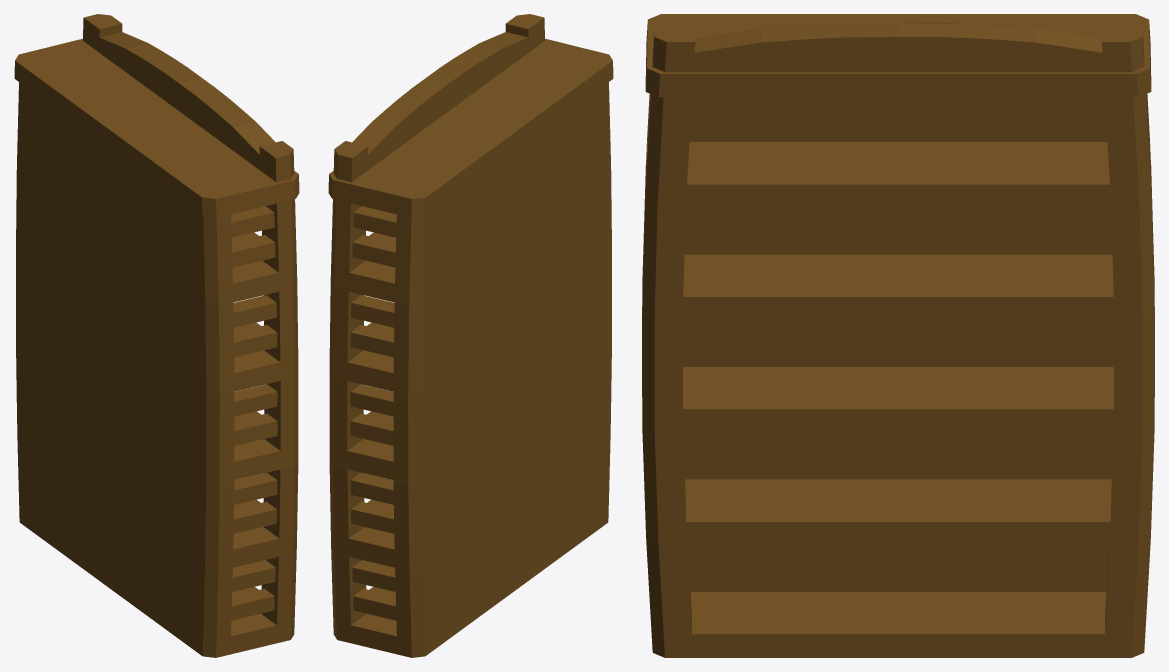
File: Unused_Bookcase.fbx
3 renders of one model, left to right at view 1: azimuth 30°, elevation 25°; view 2: azimuth 150°, elevation 25°; view 3: azimuth 270°, elevation 25°, orthographic. The views are drawn at different scales.
Visible parts, largest first — view 1: Cube.033; view 2: Cube.033; view 3: Cube.033.
Boxes of the visible parts, <box> form: Cube.033: <box>14,14,299,657</box>; Cube.033: <box>328,14,613,657</box>; Cube.033: <box>642,14,1154,657</box>.
Size of the model in its own units: 115 by 555 by 415.
